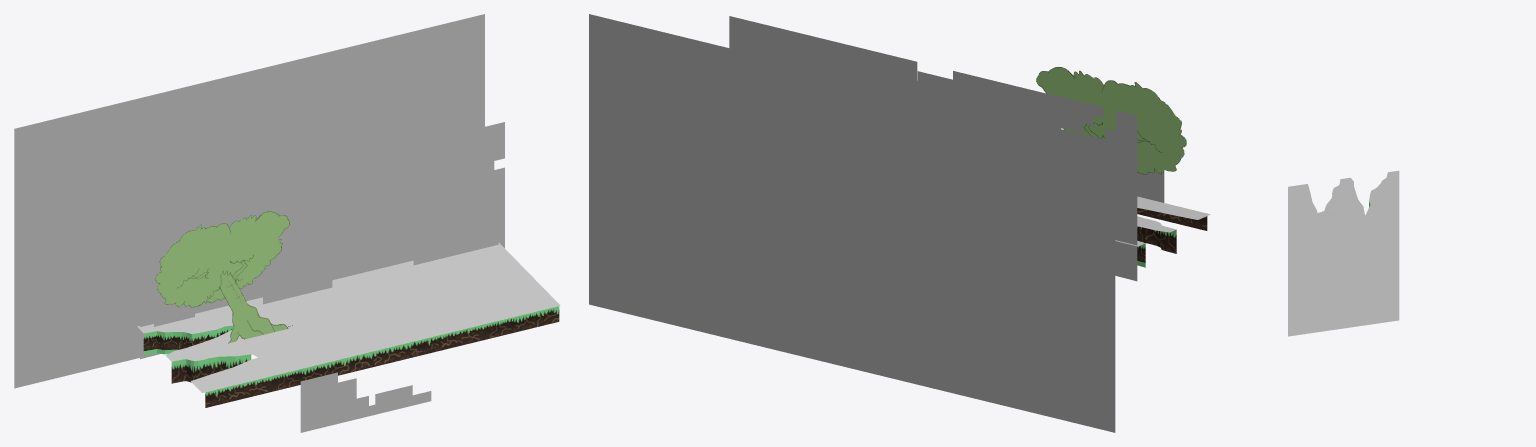
File: Ej_Escenario.fbx
3 renders of one model, left to right at view 1: azimuth 30°, elevation 25°; view 2: azimuth 150°, elevation 25°; view 3: azimuth 270°, elevation 25°, orthographic. The views are drawn at different scales.
Parts seen in each view (by area): view 1: IMG_6 mountain.003, Floor.002, IMG_BackTree 4.002, IMG_BackTree 3.002, IMG_2 tree.003, IMG_BackTree 2.002, FloorFront.002, IMG_1 bush.003, IMG_BackTree 1.002, IMG_4 back_bush.007, Crater.002, Crater.003 (+3 smaller); view 2: IMG_6 mountain.003, IMG_2 tree.003, IMG_BackTree 4.002, IMG_BackTree 2.002, IMG_BackTree 1.002, IMG_BackTree 3.002, Floor.002, IMG_1 bush.003, Crater.003, FloorFront.002; view 3: Floor.002.
Part boxes in pixels (left/top/right/bottom): IMG_6 mountain.003: left=14, top=14, right=484, bottom=388; Floor.002: left=137, top=242, right=560, bottom=392; IMG_BackTree 4.002: left=336, top=122, right=504, bottom=249; IMG_BackTree 3.002: left=285, top=167, right=429, bottom=280; IMG_2 tree.003: left=155, top=211, right=292, bottom=343; IMG_BackTree 2.002: left=169, top=171, right=323, bottom=309; FloorFront.002: left=205, top=306, right=559, bottom=407; IMG_1 bush.003: left=300, top=372, right=368, bottom=432; IMG_BackTree 1.002: left=140, top=206, right=213, bottom=359; IMG_4 back_bush.007: left=413, top=192, right=498, bottom=265; Crater.002: left=143, top=325, right=233, bottom=355; Crater.003: left=171, top=354, right=251, bottom=383; IMG_6 mountain.003: left=589, top=14, right=1115, bottom=432; IMG_2 tree.003: left=1036, top=67, right=1186, bottom=174; IMG_BackTree 4.002: left=729, top=16, right=917, bottom=85; IMG_BackTree 2.002: left=953, top=71, right=1103, bottom=132; IMG_BackTree 1.002: left=1105, top=110, right=1137, bottom=281; IMG_BackTree 3.002: left=855, top=68, right=975, bottom=107; Floor.002: left=1115, top=196, right=1210, bottom=246; IMG_1 bush.003: left=1137, top=170, right=1164, bottom=202; Crater.003: left=1137, top=226, right=1176, bottom=253; FloorFront.002: left=1137, top=208, right=1207, bottom=230; Floor.002: left=1288, top=170, right=1399, bottom=336.
Bounding box in the file's own units: 299 × 158 × 181.
